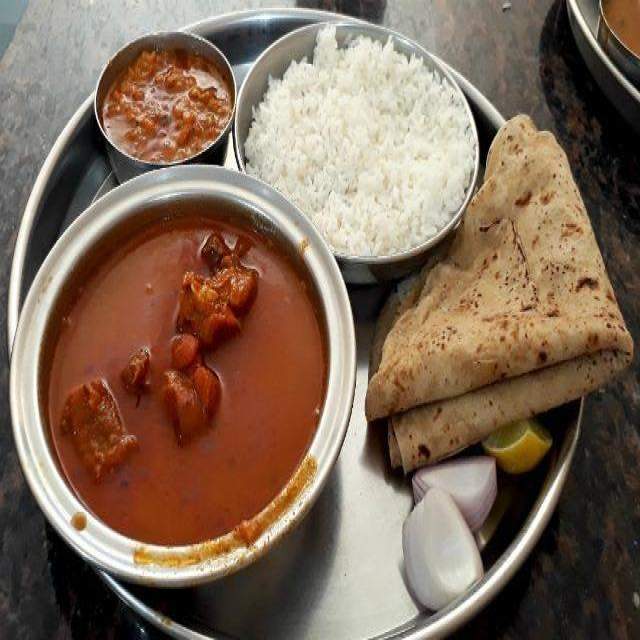non veg meals: (5, 26, 637, 604)
